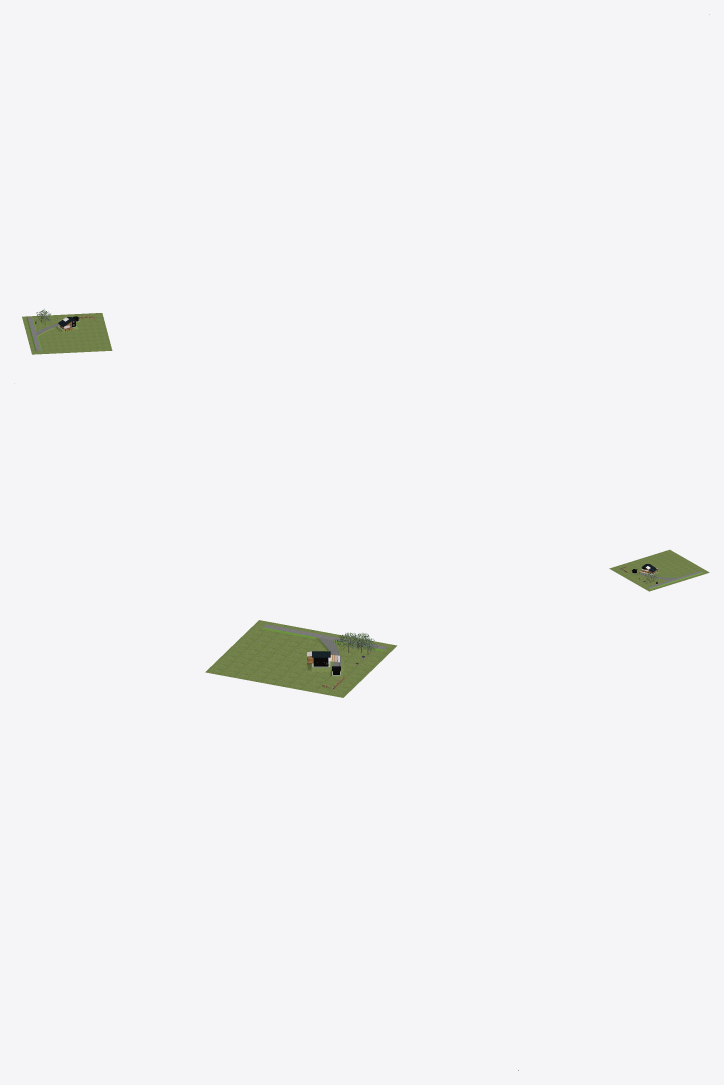
Rendered from casa.stages.glb.
The picture shows the model from 3 angles, top to bottom: view 1: azimuth 30°, elevation 25°; view 2: azimuth 150°, elevation 25°; view 3: azimuth 270°, elevation 25°; orthographic projection. The views are drawn at different scales.
Parts seen in each view (by area): view 1: g-terreno; view 2: g-terreno, g-base; view 3: g-terreno, g-base.
Boxes of the visible parts, box(x1,y1,x2,y2) form: g-terreno: box(22, 313, 112, 354); g-terreno: box(609, 549, 709, 591); g-base: box(635, 571, 703, 589); g-terreno: box(205, 620, 396, 697); g-base: box(262, 624, 387, 672).
Size of what is drawn, in the model's own units: 636 by 79.86 by 137.
235 materials, 136 textured.
